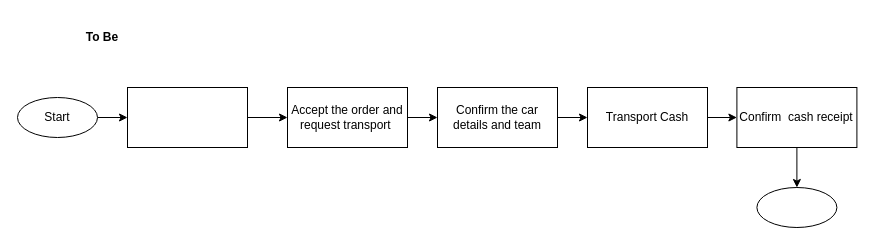
Some shapes in this 875 by 245 pixel diagram are drawn without their labels. Here are the shapes that lost their labels. From the top down, the box of each, then its label:
(126, 86, 248, 148): Order of cash within the system
(756, 186, 837, 228): End
